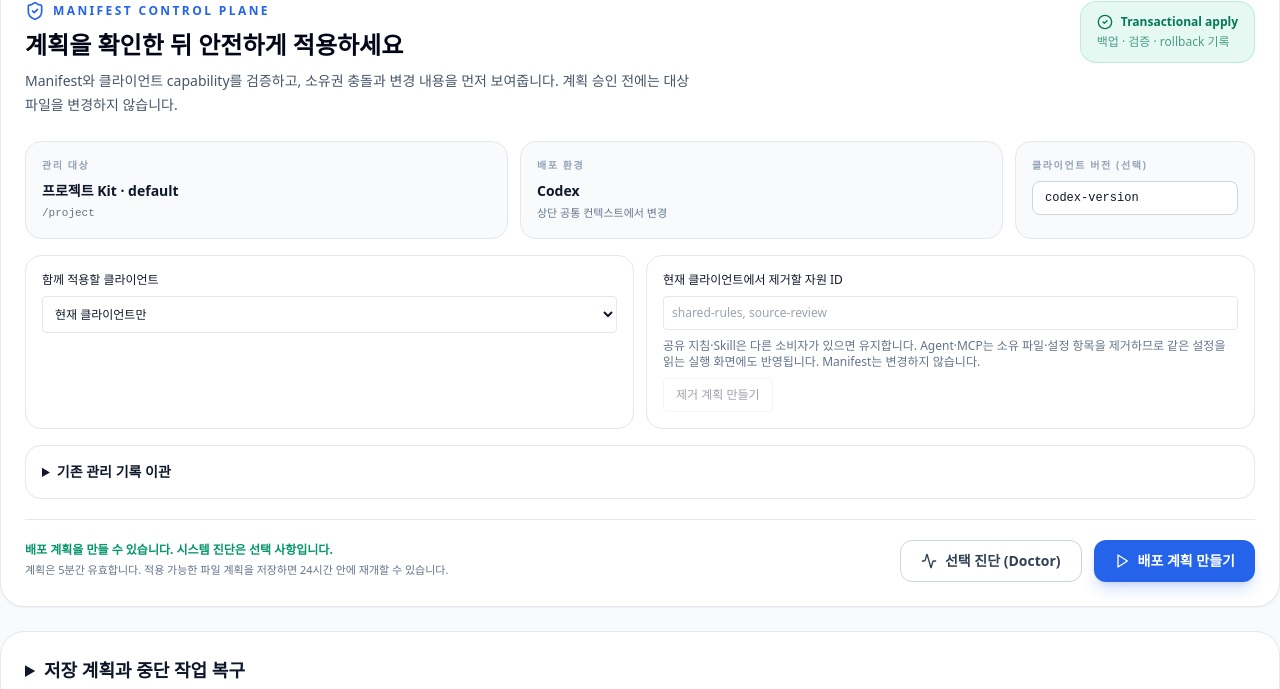
passes separate client versions when planning a shared update
Select "Antigravity" in the dropdown labelled "함께 적용할 클라이언트" at (330, 314), box x1=42 y1=296 x2=617 y2=332
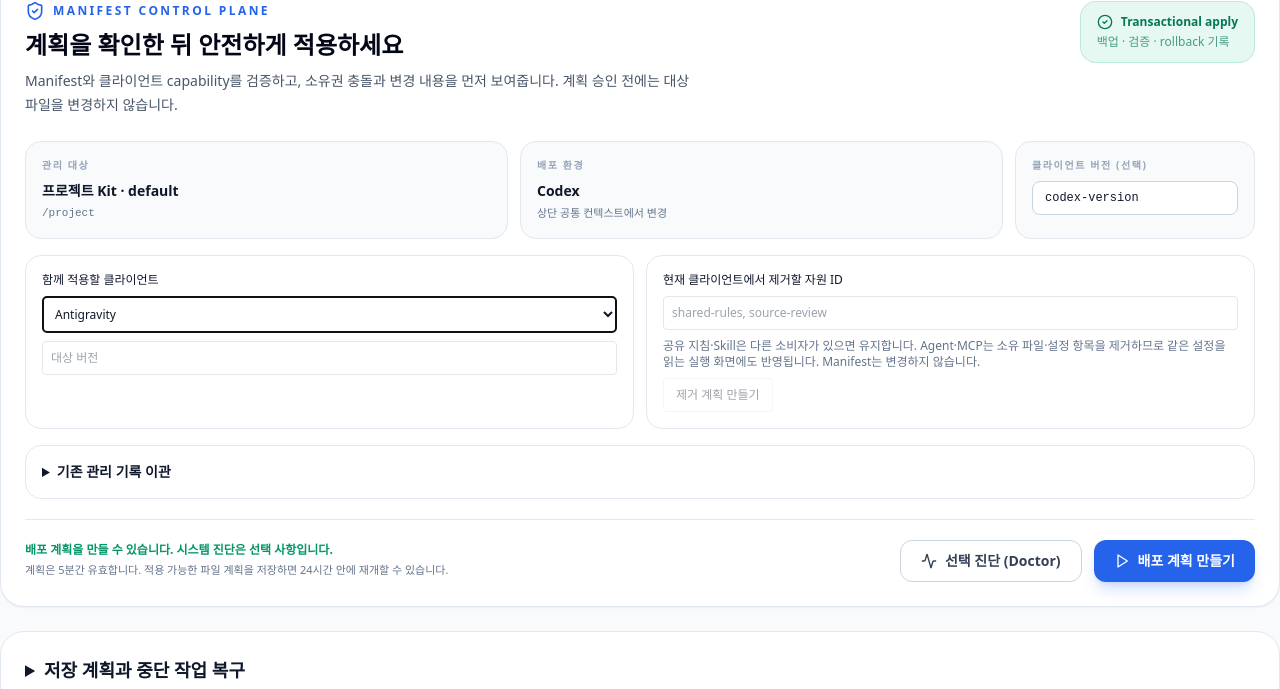
Type "antigravity-version" into the field named "함께 적용할 클라이언트 버전" at (330, 358), box x1=42 y1=340 x2=617 y2=374
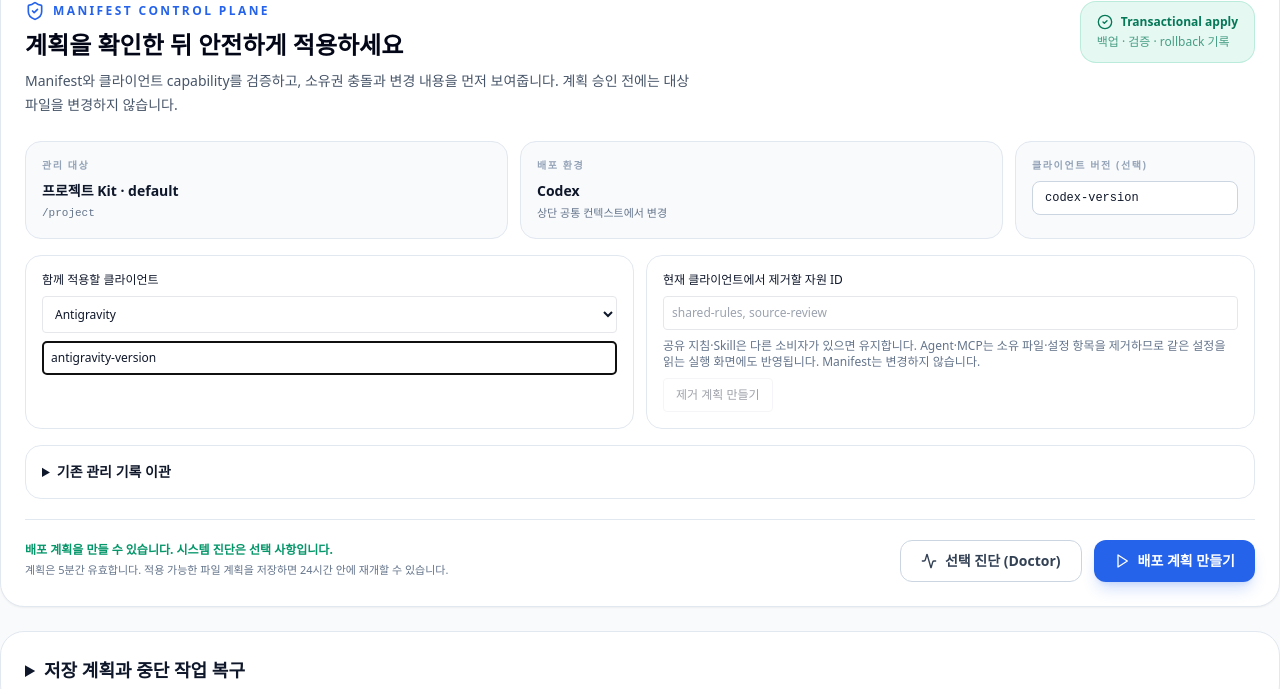
Click the button "배포 계획 만들기" at (1174, 560), box x1=1094 y1=540 x2=1255 y2=582
(page scrolled)
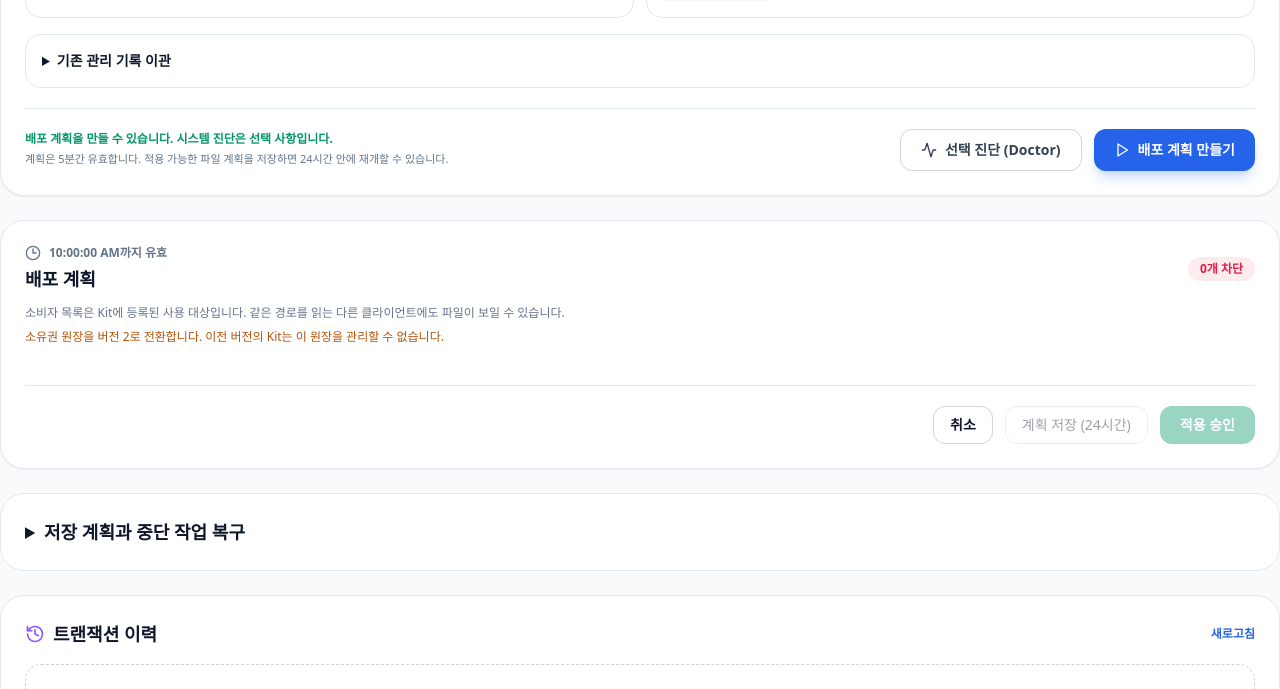
Now the text "소유권 원장을 버전 2로 전환합니다. 이전 버전의 Kit는 이 원장을 관리할 수 없습니다." is shown, box x1=25 y1=328 x2=444 y2=344
